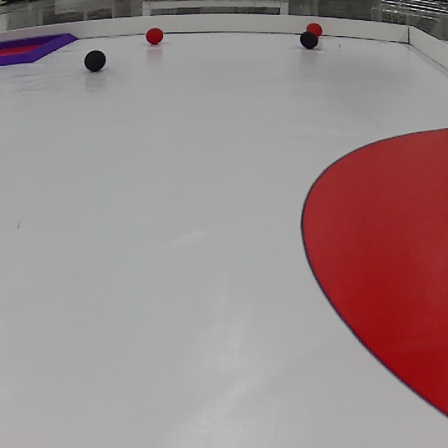black: (81, 48, 110, 72), (299, 31, 319, 50)
red: (143, 27, 167, 45), (307, 21, 325, 38)
red_aim: (0, 29, 81, 70)
red_base: (285, 126, 448, 422)
